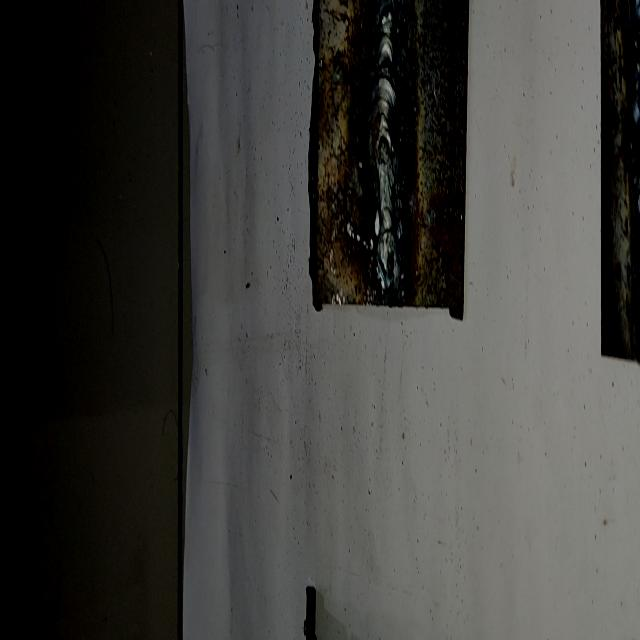Good Weld: (373, 0, 413, 295)
